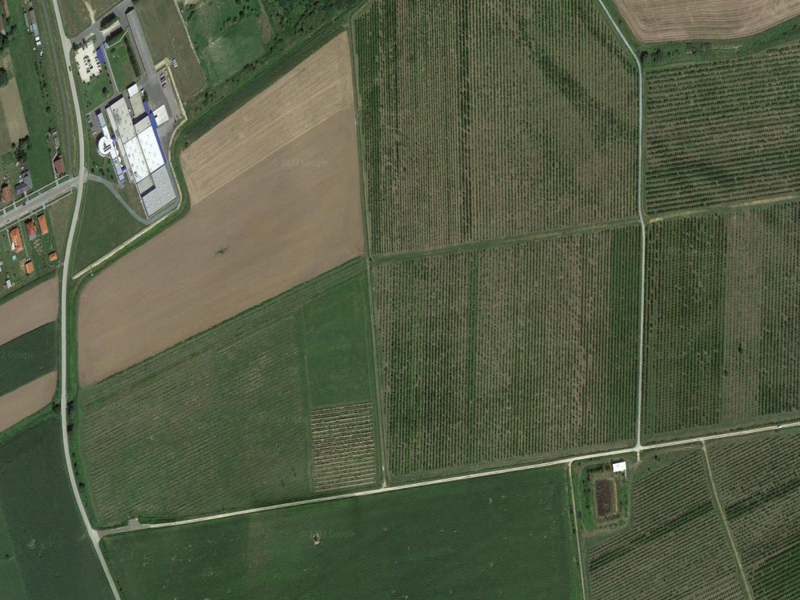field: (372, 223, 643, 478)
